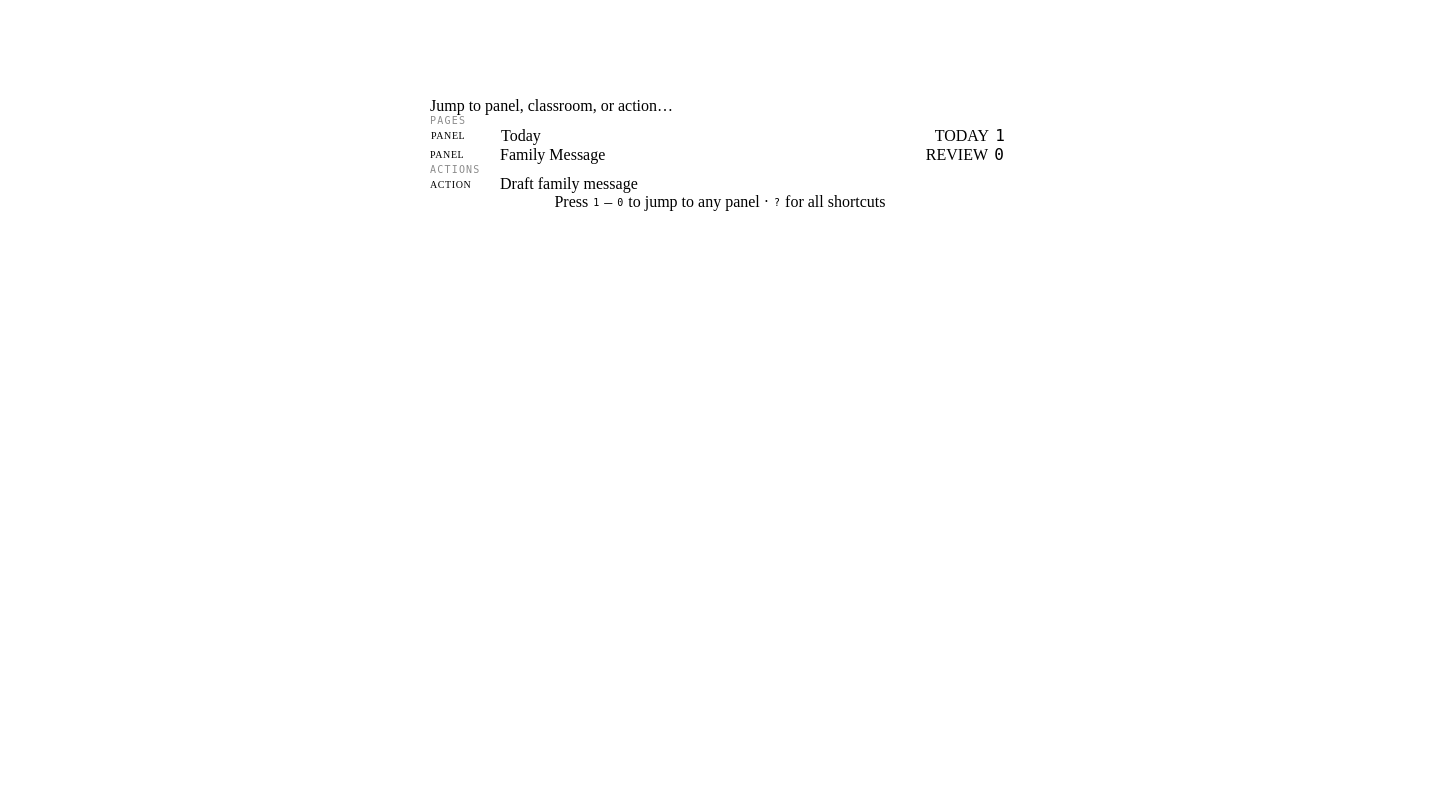
Scenario: CommandPalette › shows 'No matches' when query matches nothing
The image size is (1440, 810).
Step 1. Type "xyzzy" into the dropdown → x=720, y=106, box [430, 97, 1010, 115]
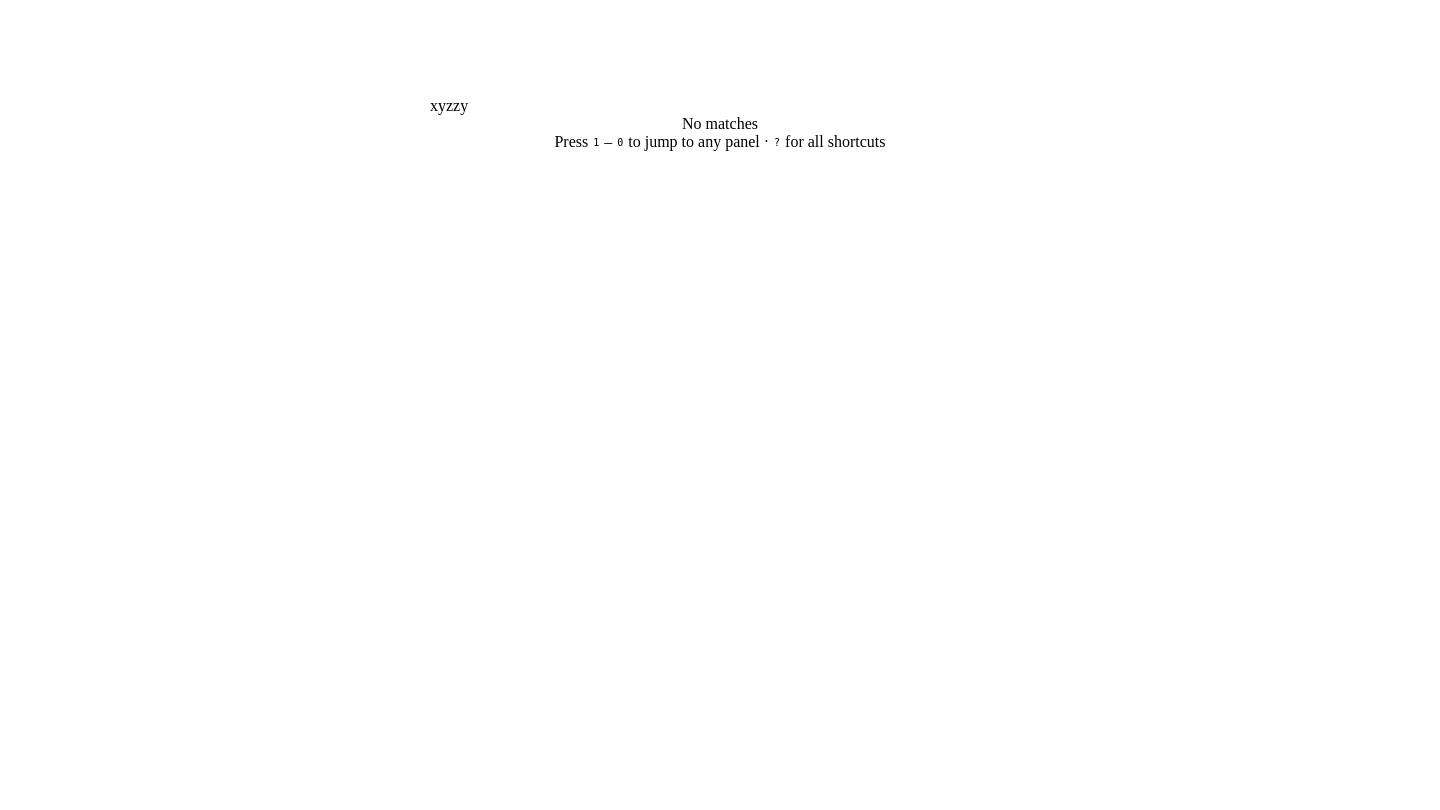
Expected: the list item "No matches" is shown, [682, 115, 758, 132]
